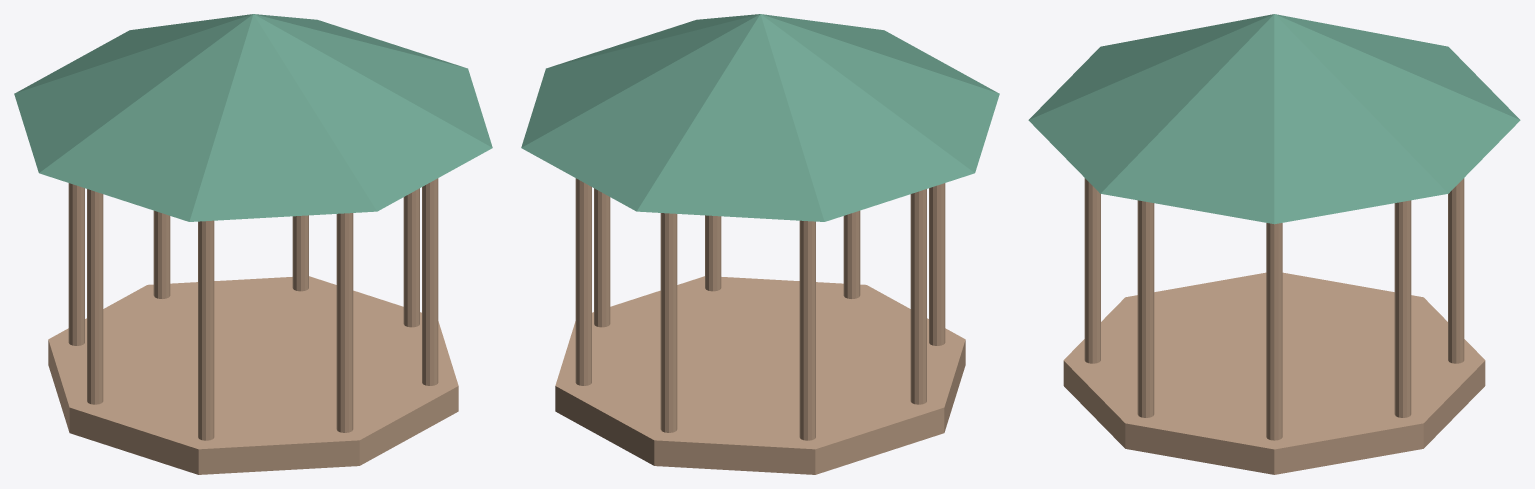
Rendered from gazebo.glb.
3 renders of one model, left to right at view 1: azimuth 30°, elevation 25°; view 2: azimuth 150°, elevation 25°; view 3: azimuth 270°, elevation 25°, orthographic.
Parts seen in each view (by area): view 1: gazebo_009, gazebo_000, gazebo_007, gazebo_006, gazebo_005, gazebo_008, gazebo_004, gazebo_001, gazebo_003, gazebo_002; view 2: gazebo_009, gazebo_000, gazebo_003, gazebo_004, gazebo_005, gazebo_002, gazebo_006, gazebo_001, gazebo_007, gazebo_008; view 3: gazebo_009, gazebo_000, gazebo_002, gazebo_008, gazebo_001, gazebo_003, gazebo_007.
Part boxes in pixels (x1,y1,x2,y2): gazebo_009: [14, 14, 492, 221]; gazebo_000: [48, 276, 458, 474]; gazebo_007: [336, 213, 353, 432]; gazebo_006: [198, 220, 214, 440]; gazebo_005: [87, 189, 103, 404]; gazebo_008: [422, 178, 438, 385]; gazebo_004: [68, 183, 84, 345]; gazebo_001: [403, 188, 419, 327]; gazebo_003: [153, 210, 170, 298]; gazebo_002: [292, 215, 308, 291]; gazebo_009: [521, 14, 999, 221]; gazebo_000: [555, 276, 965, 474]; gazebo_003: [660, 213, 677, 432]; gazebo_004: [799, 220, 815, 440]; gazebo_005: [910, 189, 926, 404]; gazebo_002: [575, 178, 591, 385]; gazebo_006: [929, 183, 945, 345]; gazebo_001: [594, 188, 610, 327]; gazebo_007: [843, 210, 860, 298]; gazebo_008: [705, 215, 721, 291]; gazebo_009: [1028, 14, 1520, 224]; gazebo_000: [1063, 272, 1485, 474]; gazebo_002: [1394, 200, 1411, 417]; gazebo_008: [1137, 200, 1154, 417]; gazebo_001: [1266, 223, 1282, 440]; gazebo_003: [1448, 178, 1464, 363]; gazebo_007: [1084, 178, 1100, 363].
Bounding box in the file's own units: 4.2 × 3.5 × 4.2.
